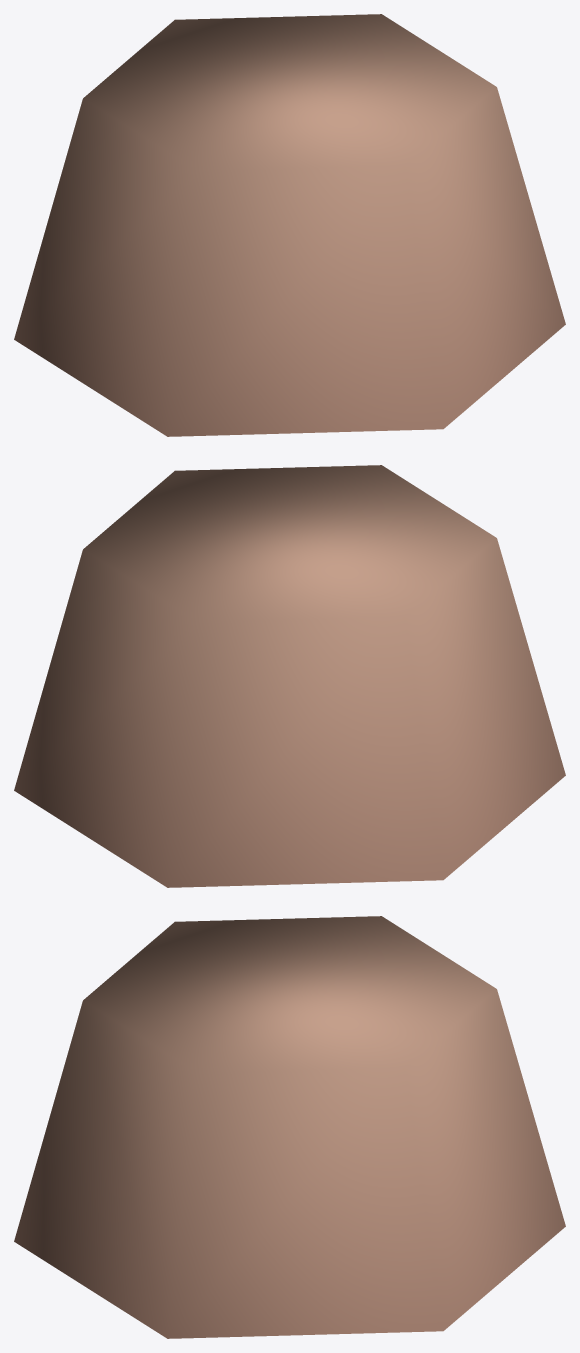
Rendered from (%no-merge) 10.glb.
3 renders of one model, top to bottom at view 1: azimuth 30°, elevation 25°; view 2: azimuth 150°, elevation 25°; view 3: azimuth 270°, elevation 25°, orthographic.
Visible parts, largest first — view 1: (%no-merge) 10; view 2: (%no-merge) 10; view 3: (%no-merge) 10.
Part boxes in pixels (box(x1,y1,x2,y2)): (%no-merge) 10: box(14, 14, 565, 436); (%no-merge) 10: box(14, 465, 565, 887); (%no-merge) 10: box(14, 916, 565, 1338).
Bounding box in the file's own units: 0.0376 × 0.02 × 0.0418.
